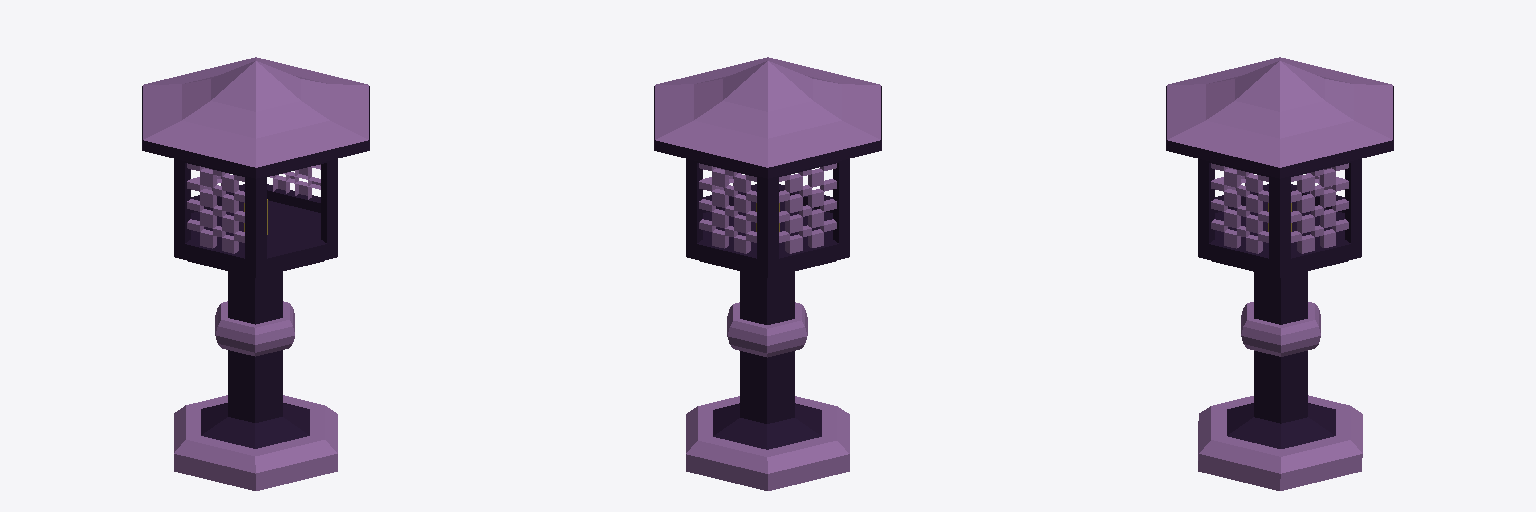
File: Lightstand_B.obj
The picture shows the model from 3 angles: view 1: azimuth 30°, elevation 25°; view 2: azimuth 150°, elevation 25°; view 3: azimuth 270°, elevation 25°; orthographic projection.
Visible parts, largest first — view 1: Lightstand_B; view 2: Lightstand_B; view 3: Lightstand_B.
Part boxes in pixels (x1,y1,x2,y2): Lightstand_B: (142, 57, 369, 490); Lightstand_B: (654, 57, 881, 490); Lightstand_B: (1166, 57, 1393, 490).
Size of the model in its own units: 3.29 by 5.38 by 2.85.